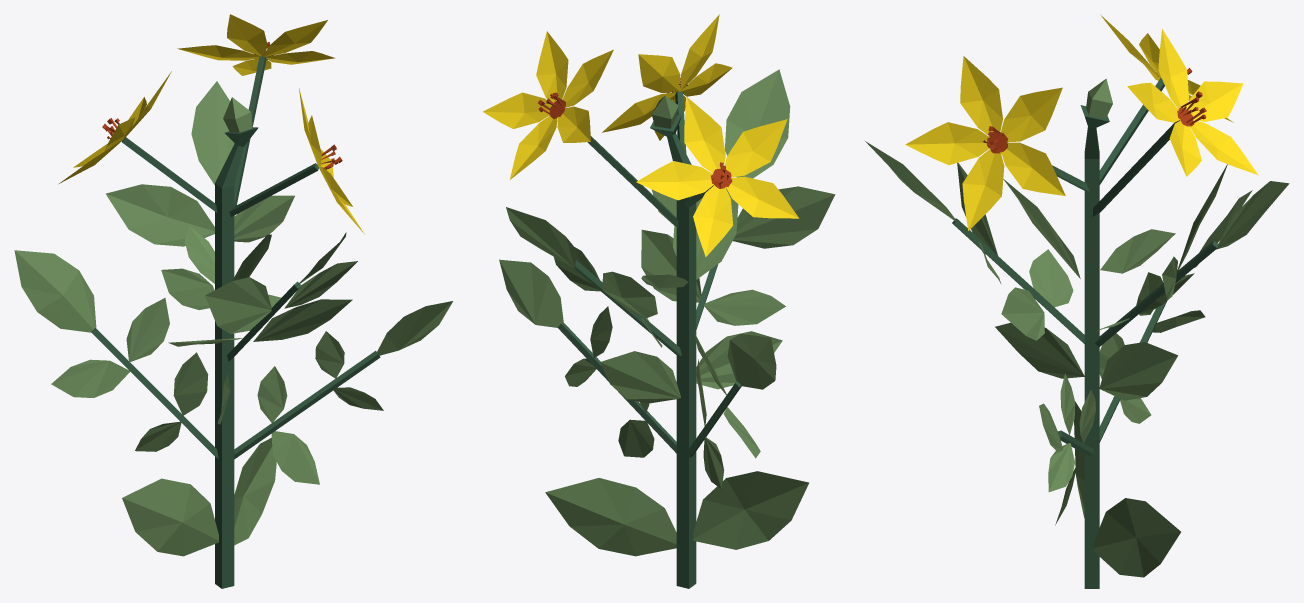
Rendered from St.John'sWort.fbx.
3 views of the same model, side by side, from view 1: azimuth 30°, elevation 25°; view 2: azimuth 150°, elevation 25°; view 3: azimuth 270°, elevation 25° (orthographic). The views are drawn at different scales.
Visible parts, largest first — view 1: St.John'sWort_LOD0; view 2: St.John'sWort_LOD0; view 3: St.John'sWort_LOD0.
Boxes of the visible parts, bbox=[...] form: St.John'sWort_LOD0: bbox=[14, 14, 452, 588]; St.John'sWort_LOD0: bbox=[483, 14, 835, 588]; St.John'sWort_LOD0: bbox=[865, 14, 1289, 588].
Size of what is drawn, in the model's own units: 136 by 198 by 132.
